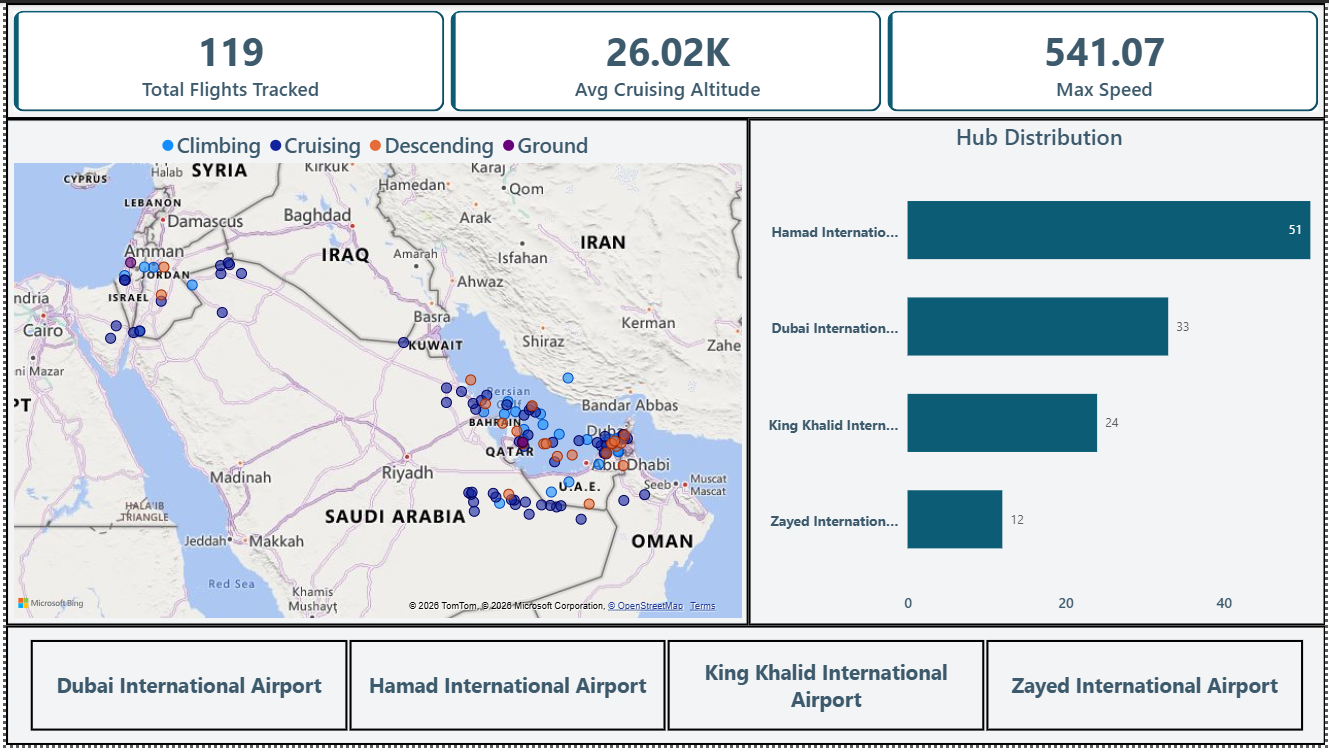

The page's visual inventory and layout, read from the dashboard file:
{"tool":"powerbi","page":{"name":"Page 1","canvas":[1280,720],"ordinal":0},"visuals":[{"type":"cardVisual","fields":{"Data":["Count(public fact_flight_states.callsign)","public fact_flight_states.Avg Cruising Altitude","Max(public fact_flight_states.velocity_knots)"]},"box":[0,0,1280.5,112.6],"z":0},{"type":"map","fields":{"Series":["public fact_flight_states.flight_status"],"Y":["public fact_flight_states.latitude"],"X":["public fact_flight_states.longitude"]},"box":[0,112.6,720.6,492],"z":1000},{"type":"clusteredBarChart","title":"Hub Distribution","fields":{"Category":["public dim_airports.airport_name"],"Y":["CountNonNull(public fact_flight_states.callsign)"]},"box":[720.6,112.6,559.9,492],"z":2000},{"type":"slicer","fields":{"Values":["public dim_airports.airport_name"]},"box":[0,604.6,1280.5,116],"z":3001}]}

Visuals, with their boxes in screenshot pixels (x1, y1, x2, y2), scaled from the page's 1280x720 canvas onto the 1329x754 screenshot:
cardVisual - Count(public fact_flight_states.callsign) x public fact_flight_states.Avg Cruising Altitude: crop(0, 0, 1328, 118)
map - public fact_flight_states.flight_status x public fact_flight_states.latitude: crop(0, 118, 748, 633)
"Hub Distribution" clusteredBarChart: crop(748, 118, 1328, 633)
slicer - public dim_airports.airport_name: crop(0, 633, 1328, 753)
